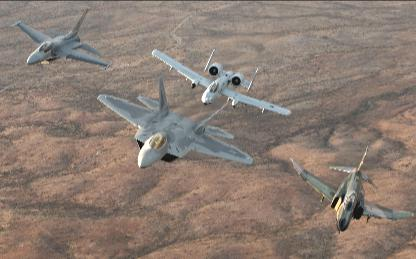A10: (152, 48, 290, 116)
F14: (10, 6, 112, 69)
F18: (96, 74, 252, 167)
F35: (289, 145, 415, 233)
